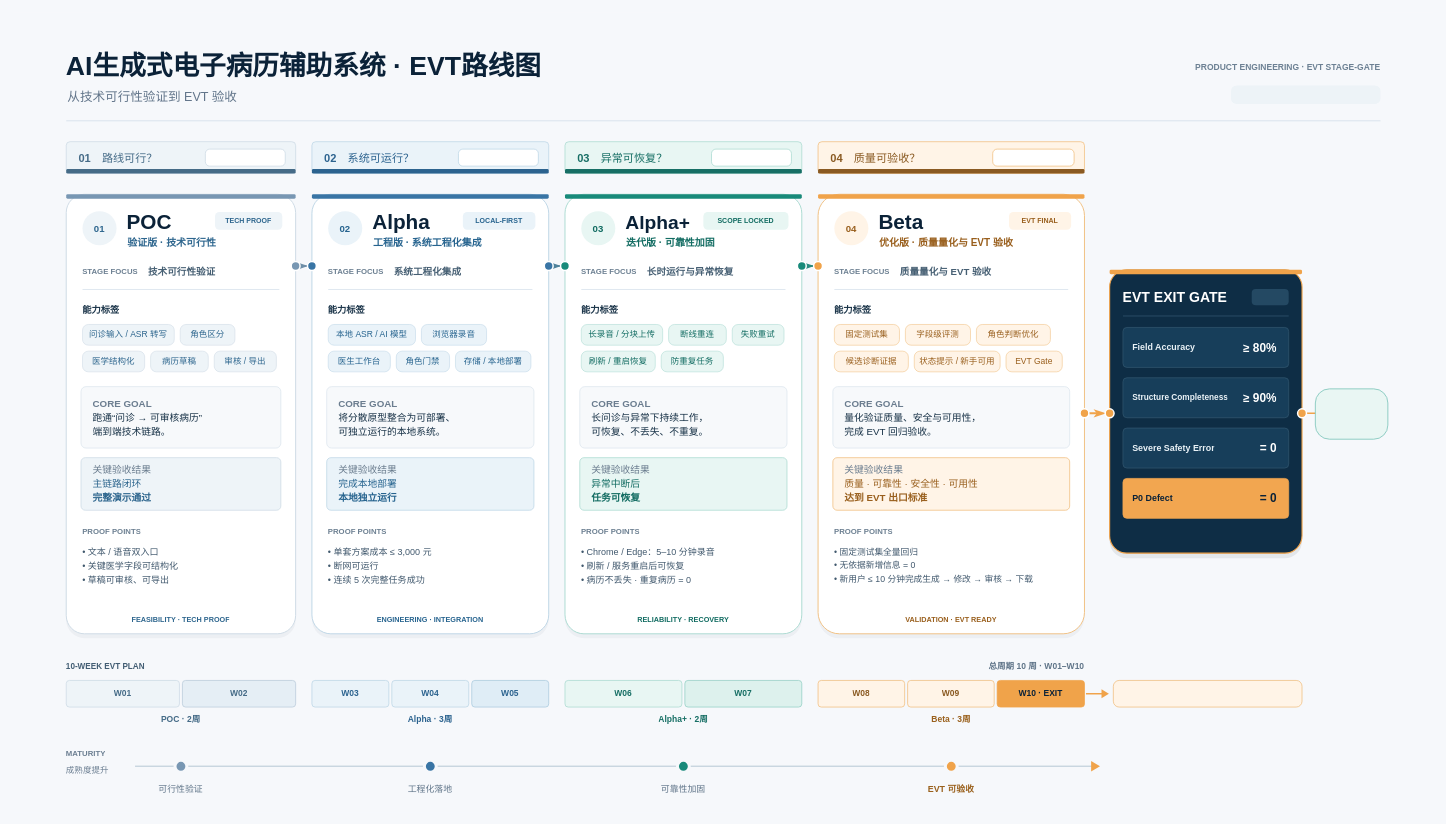
Some shapes in this 1446 by 824 pixel diagram are drawn without their labels. The centre of each missing label's shape, as x and y in pixels:
10-WEEK EVT / 4 STAGES: (1305,94)
PASS ALL: (1269,297)
Ready for DVT: (1351,413)
W01–02 · 2周: (245,157)
W03–05 · 3周: (498,157)
W06–07 · 2周: (751,157)
W08–10 · 3周: (1033,157)
W10：最终回归 + EVT Gate: (1207,693)
